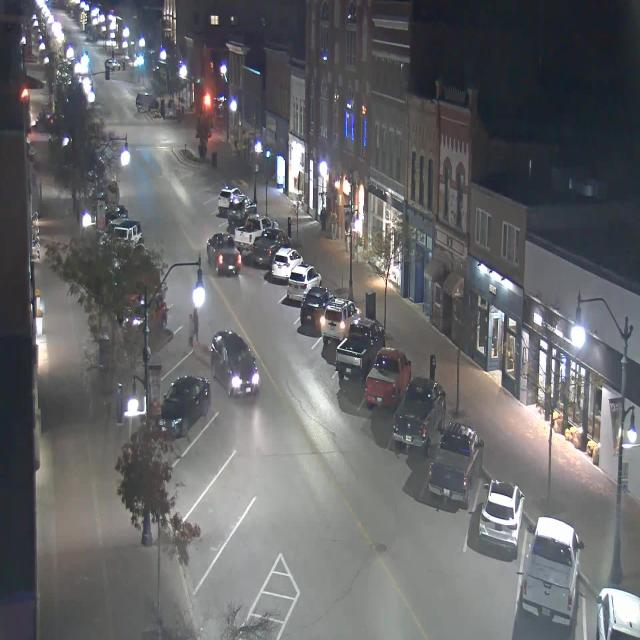available: (234, 485, 294, 583), (212, 445, 262, 521), (193, 410, 241, 469), (163, 320, 196, 363), (174, 346, 211, 382)
occupied: (520, 515, 584, 627), (428, 420, 483, 509), (392, 375, 446, 457), (478, 478, 525, 557), (156, 373, 211, 439), (334, 316, 386, 381), (364, 346, 412, 410), (595, 586, 640, 639), (320, 296, 360, 347), (300, 285, 336, 330), (286, 262, 322, 303), (251, 228, 291, 264), (235, 216, 273, 252), (271, 248, 305, 279), (227, 196, 259, 227), (216, 184, 242, 216)
